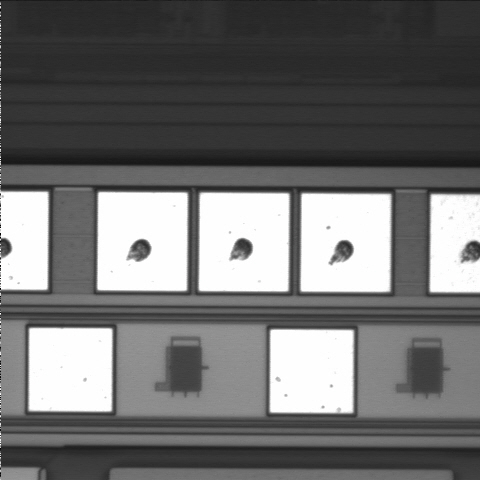pad: (97, 192, 188, 291), (199, 193, 289, 291), (301, 194, 391, 292), (29, 328, 112, 411), (270, 330, 353, 413)
